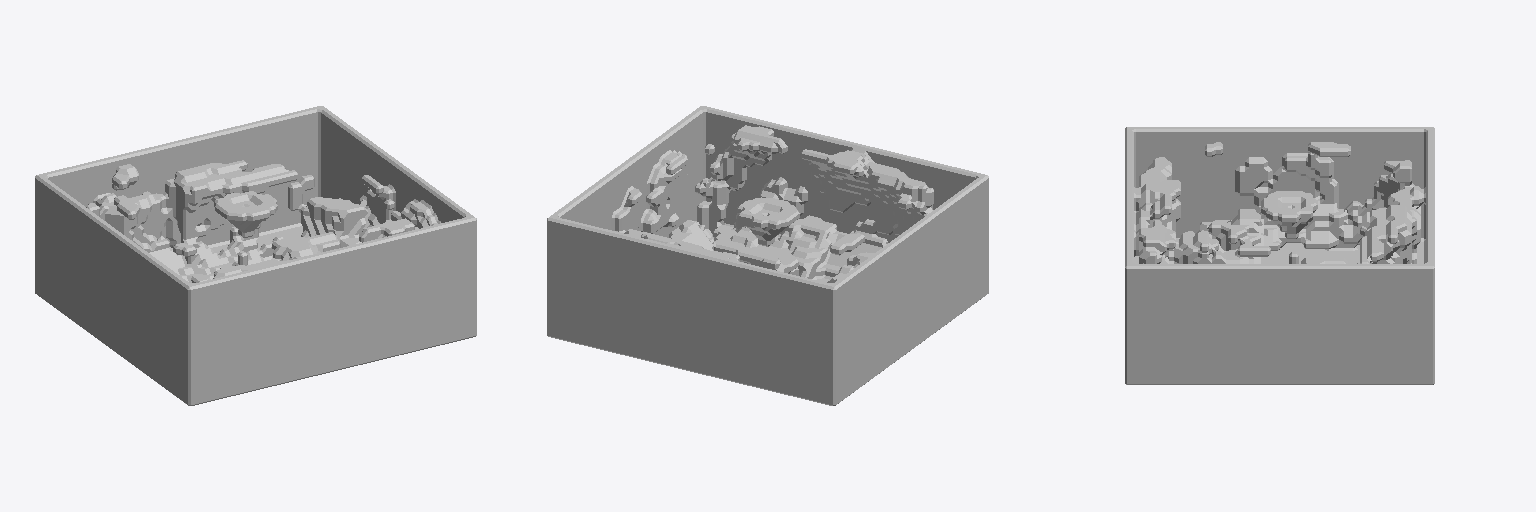
The model's file is Input_prediction_mesh.obj.
The picture shows the model from 3 angles: view 1: azimuth 30°, elevation 25°; view 2: azimuth 150°, elevation 25°; view 3: azimuth 270°, elevation 25°; orthographic projection.
Visible parts, largest first — view 1: mat1, mat0, mat7, mat4, mat3, mat6; view 2: mat1, mat6, mat3, mat0, mat4, mat7; view 3: mat1, mat0, mat7, mat3, mat4, mat2, mat6.
Boxes of the visible parts, x1,y1,x2,y2 form: mat1: [35, 106, 476, 399]; mat0: [35, 224, 476, 405]; mat7: [214, 169, 297, 237]; mat4: [173, 175, 439, 256]; mat3: [114, 195, 418, 242]; mat6: [112, 164, 247, 265]; mat1: [547, 106, 988, 400]; mat6: [711, 213, 846, 279]; mat3: [709, 125, 864, 255]; mat0: [547, 224, 988, 405]; mat4: [640, 144, 912, 233]; mat7: [641, 197, 799, 246]; mat1: [1125, 127, 1434, 379]; mat0: [1125, 239, 1434, 384]; mat7: [1261, 191, 1370, 263]; mat3: [1139, 142, 1350, 263]; mat4: [1188, 142, 1270, 349]; mat2: [1235, 157, 1272, 195]; mat6: [1289, 160, 1411, 263].
Size of the model in its own units: 5.68 by 2.24 by 5.28.